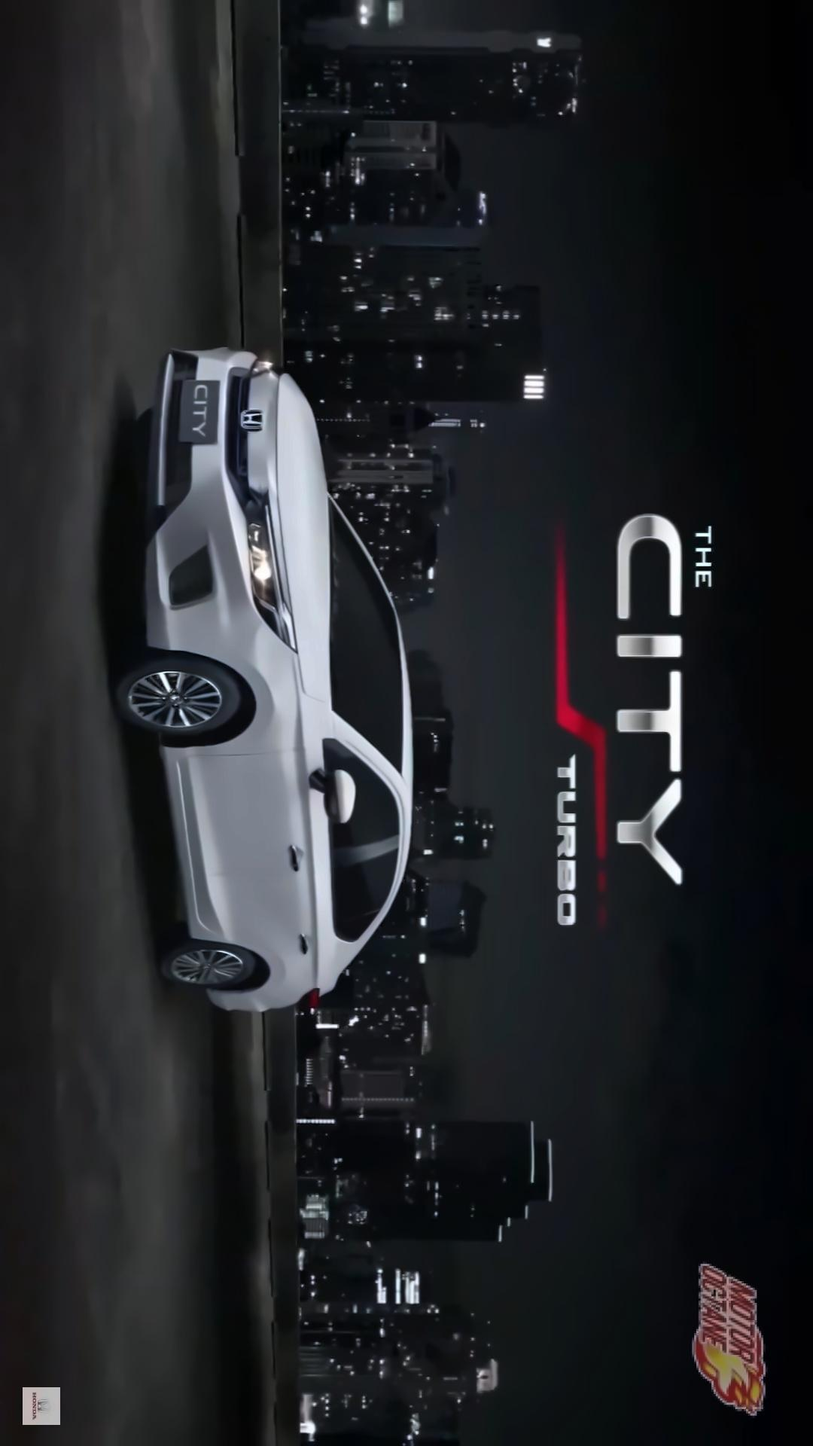Car hood: (278, 371, 332, 703)
Fender - -F-L-: (155, 638, 359, 765)
Fender - -R-L-: (239, 928, 366, 1005)
Front bumper: (151, 343, 267, 653)
Headlight - -L-: (236, 493, 296, 654)
Passenger-s door - -F-L-: (140, 731, 429, 878)
Passenger-s door - -R-L-: (174, 838, 422, 948)
Rear bumper: (207, 983, 273, 1016)
Side bumper - -L-: (142, 734, 229, 941)
Side mirror - -L-: (306, 768, 357, 821)
